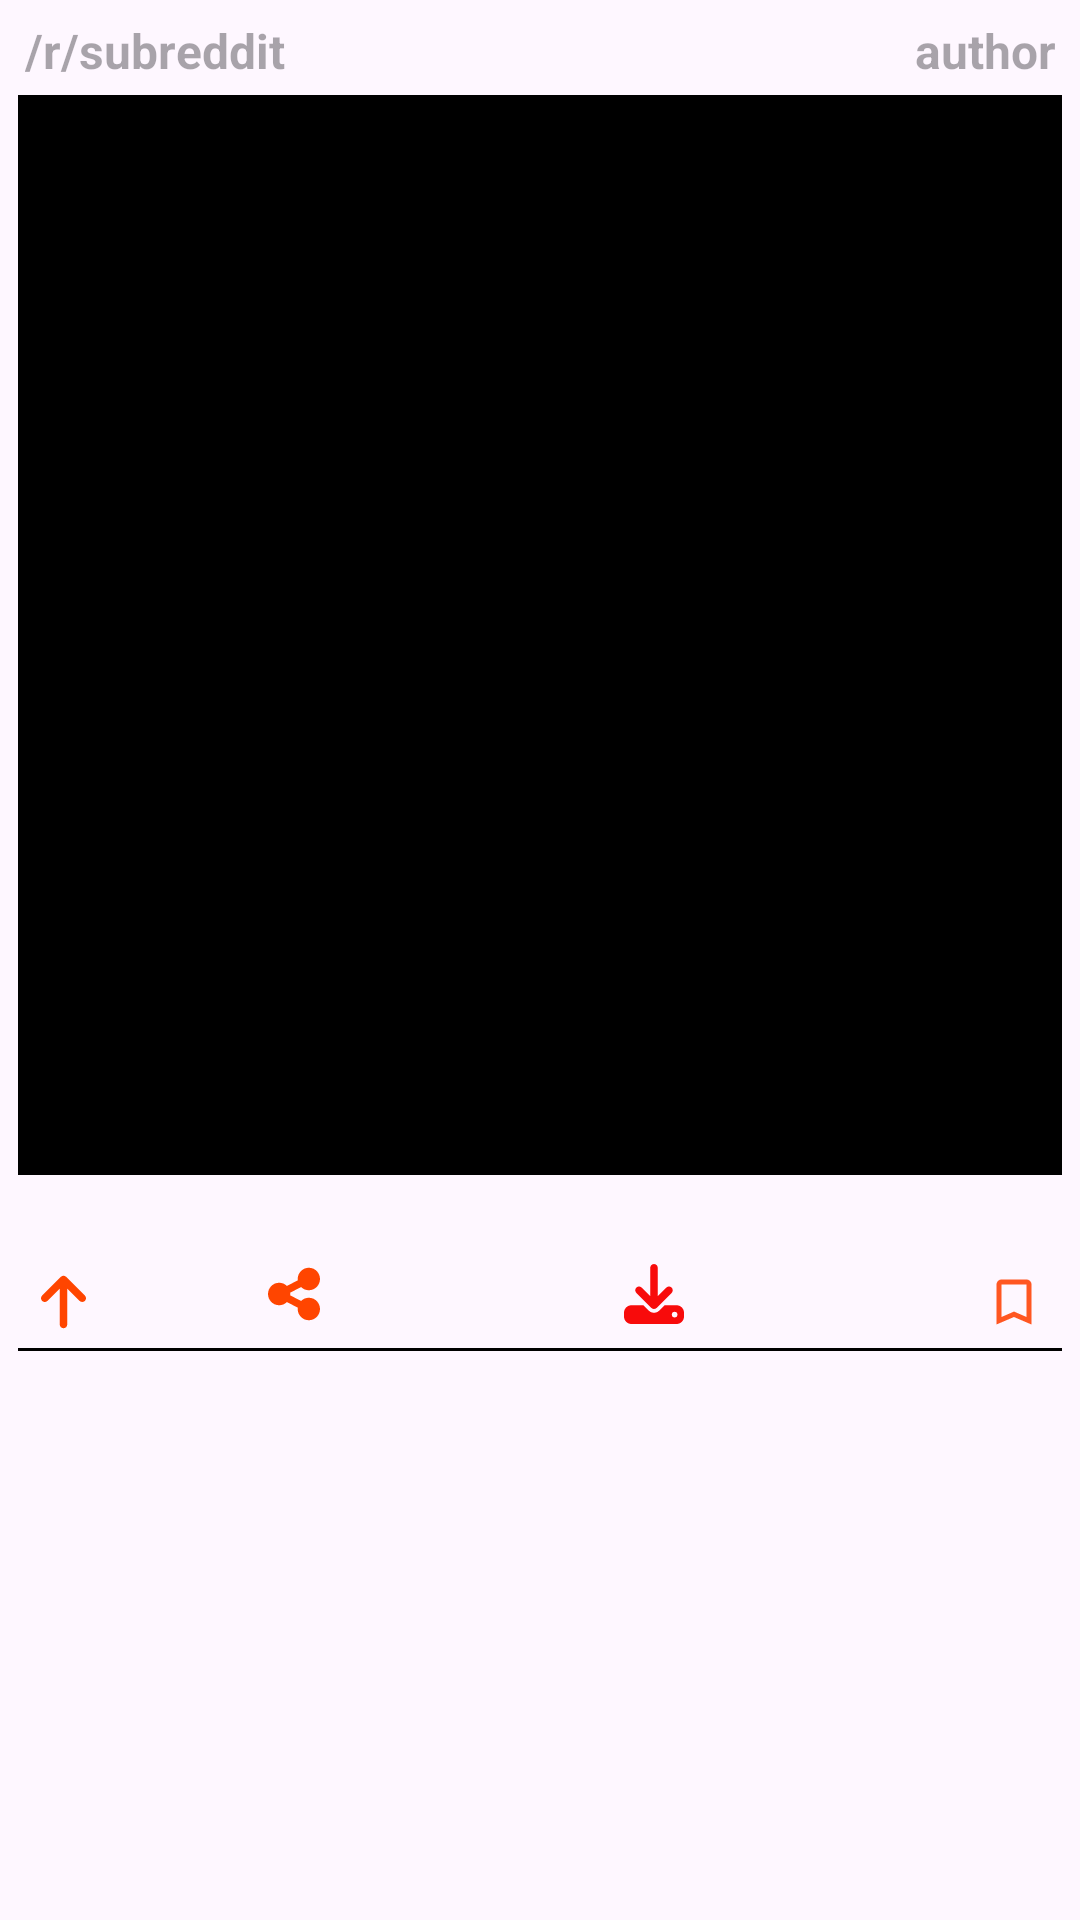

Locate icon controls on the screen. Image size 1080x1920, boxes as {"left": x1, "top": y1, "right": x2, "bottom": y2}.
bookmark border saved: {"left": 996, "top": 1279, "right": 1032, "bottom": 1325}
download: {"left": 624, "top": 1264, "right": 684, "bottom": 1324}
share nodes: {"left": 268, "top": 1267, "right": 320, "bottom": 1321}
upvotes: {"left": 41, "top": 1275, "right": 86, "bottom": 1329}
